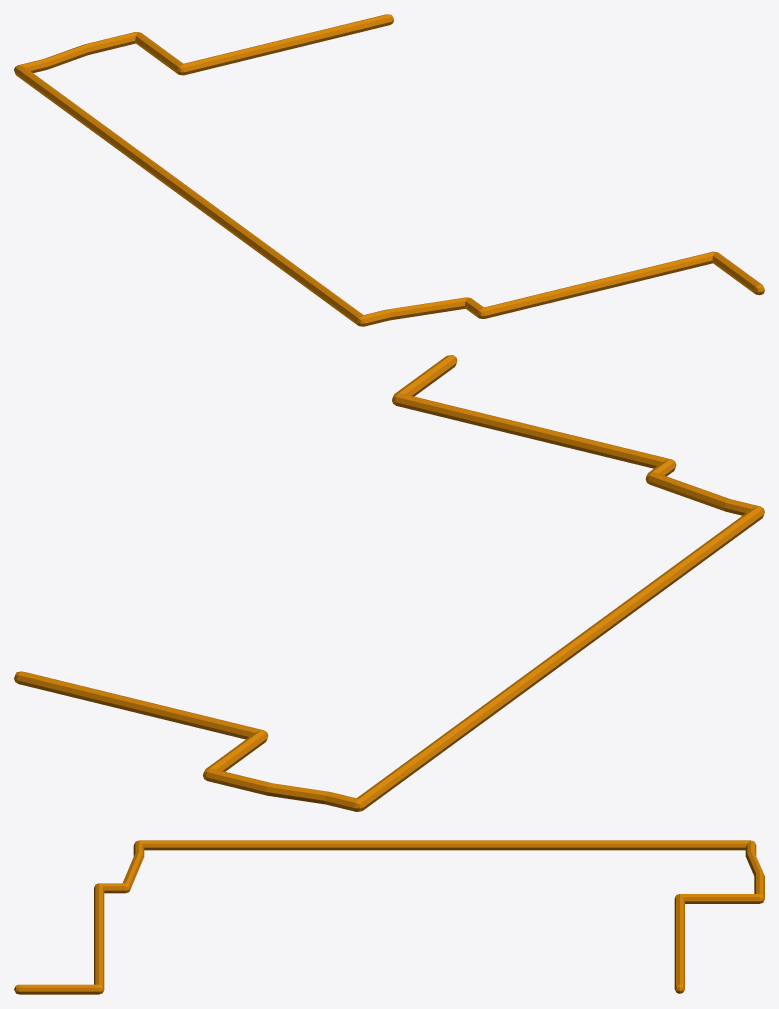
3 views of the same model, one above another, from view 1: azimuth 30°, elevation 25°; view 2: azimuth 150°, elevation 25°; view 3: azimuth 270°, elevation 25° (orthographic). The views are drawn at different scales.
Size of the model in its own units: 660 by 20 by 1411.
